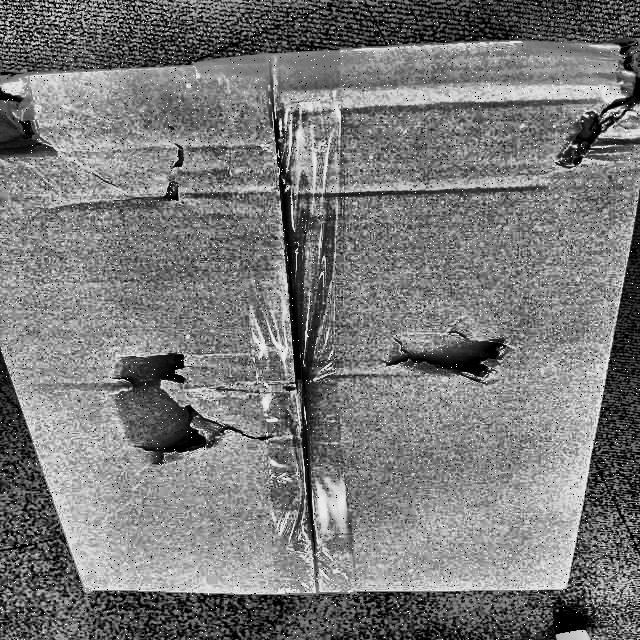box: (0, 33, 640, 599)
hole: (106, 354, 218, 456), (567, 39, 637, 159), (388, 334, 506, 378), (0, 72, 43, 137)
